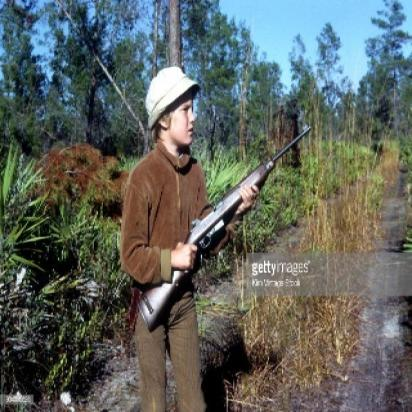Gun: (138, 119, 314, 326)
